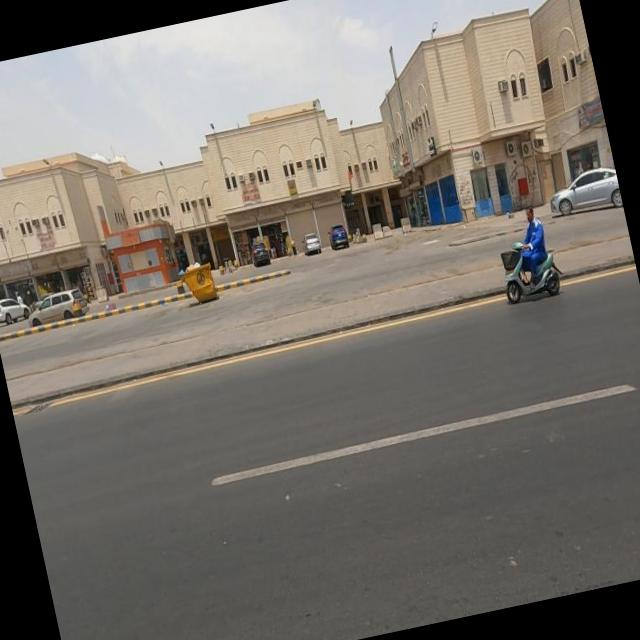debris: (205, 146, 290, 246), (84, 193, 172, 281), (7, 205, 80, 269)
